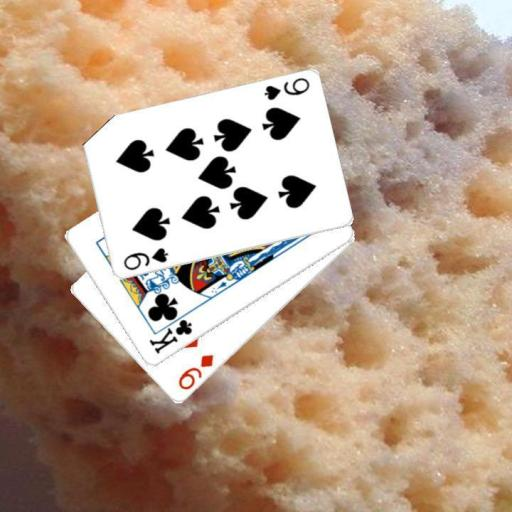card-corner: (146, 308, 193, 355), (175, 352, 215, 392), (120, 245, 170, 272), (261, 75, 311, 102)
